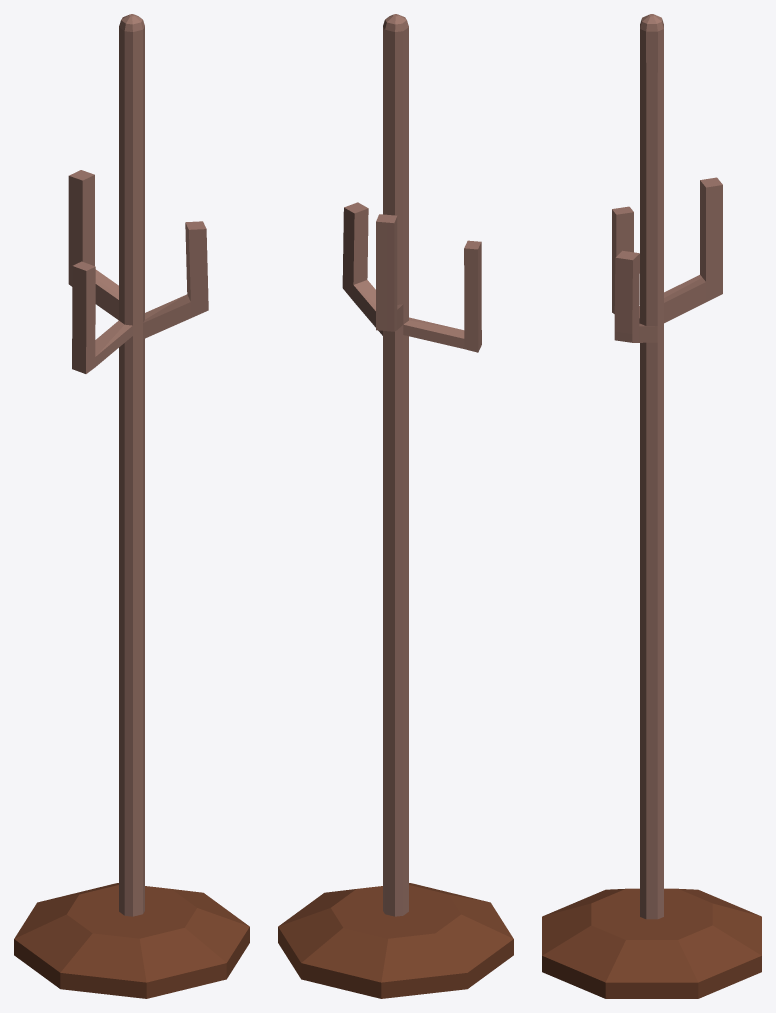
File: Perchero.fbx
3 views of the same model, side by side, from view 1: azimuth 30°, elevation 25°; view 2: azimuth 150°, elevation 25°; view 3: azimuth 270°, elevation 25° (orthographic).
Visible parts, largest first — view 1: Perchero; view 2: Perchero; view 3: Perchero.
Boxes of the visible parts, x1,y1,x2,y2 form: Perchero: (14,14,249,998); Perchero: (278,14,513,998); Perchero: (542,14,761,998).
Bounding box in the file's own units: 49.62 × 234 × 49.62.
